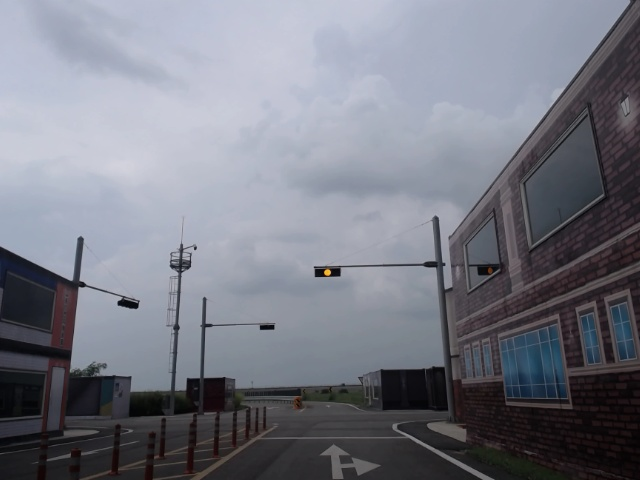orange_3: (314, 267, 341, 278)
